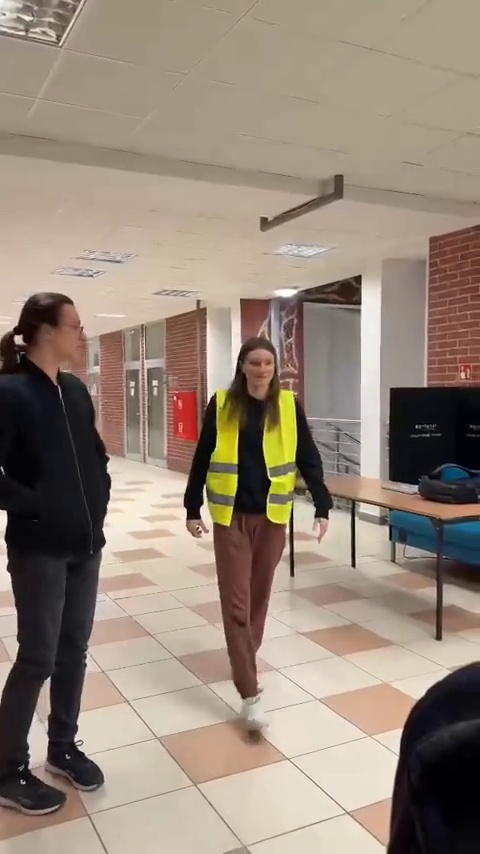no vest: (0, 285, 130, 809)
vest: (187, 346, 331, 742)
